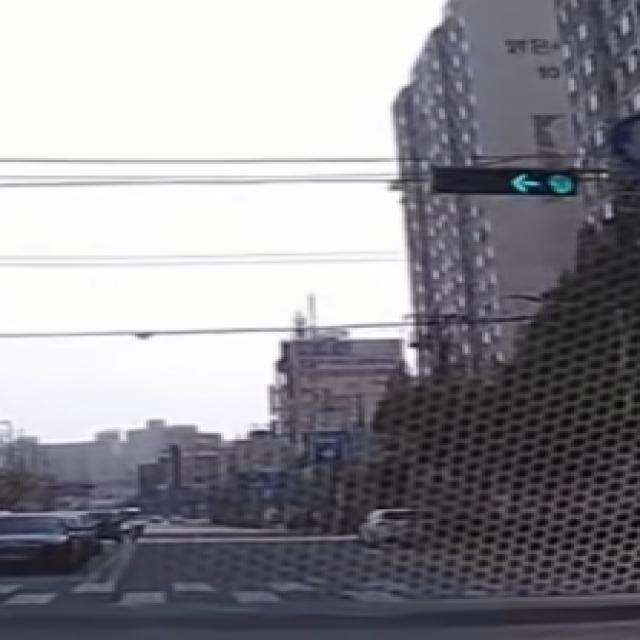Green Light: (544, 170, 577, 196)
